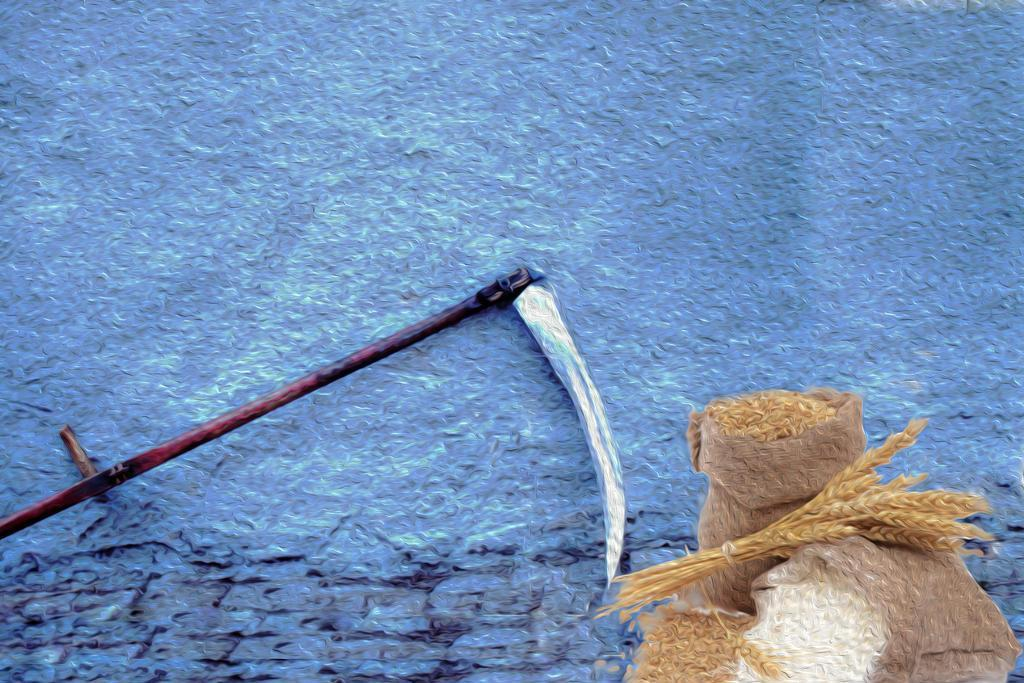foice: (419, 267, 632, 589)
